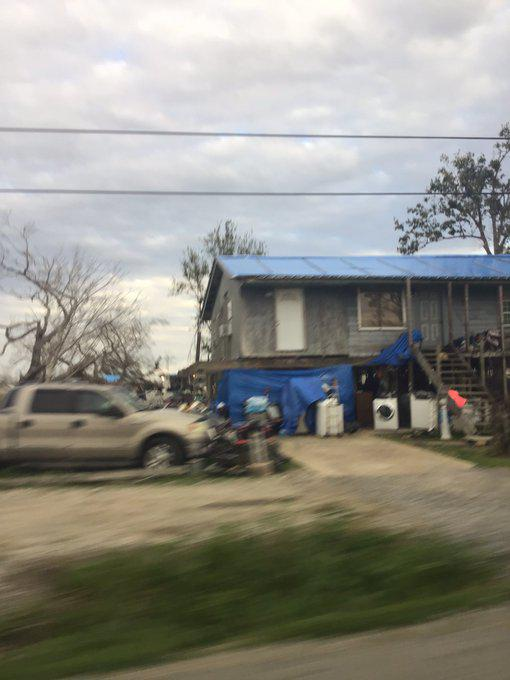minor: (186, 234, 510, 460)
